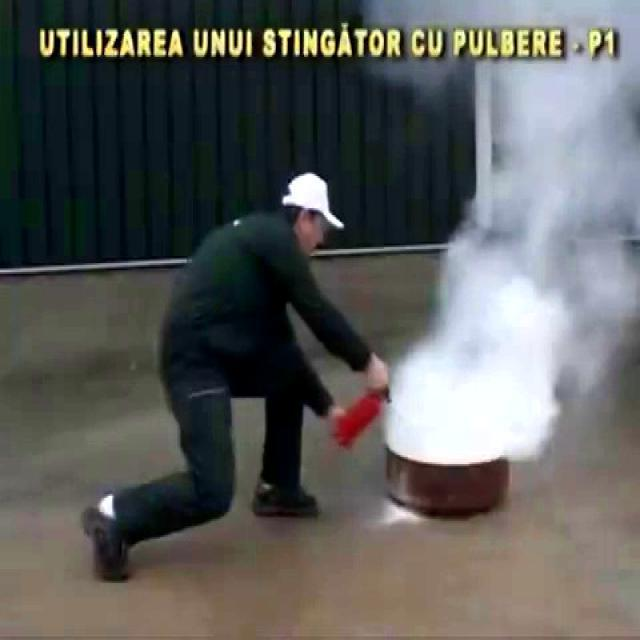Smoke: (391, 56, 640, 455)
